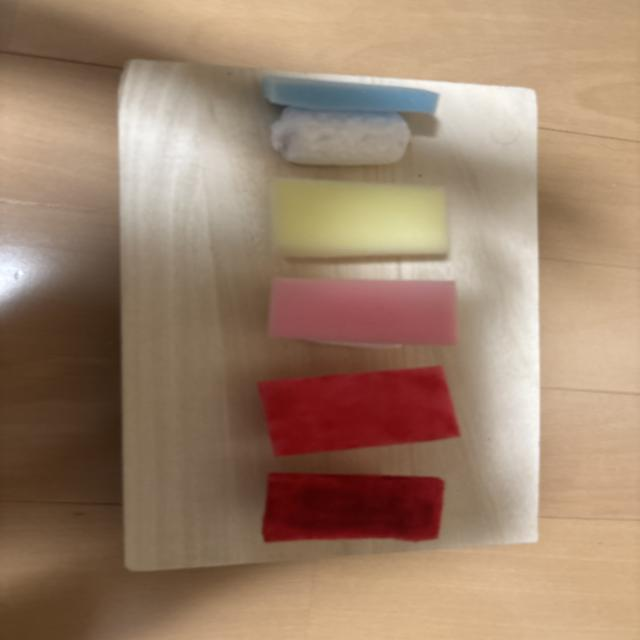NG: (262, 75, 439, 166)
maguro: (262, 473, 444, 541)
salmon: (258, 366, 460, 457)
tai: (269, 278, 458, 345)
tamago: (271, 179, 449, 258)
